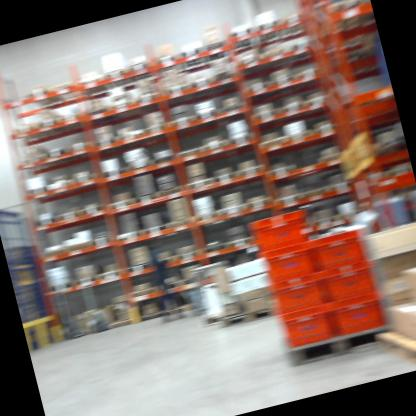pallet: (308, 323, 391, 376), (220, 303, 265, 335)
small_load_carrier: (305, 209, 374, 271), (329, 288, 396, 338), (254, 205, 315, 259), (260, 236, 323, 287), (317, 256, 385, 302), (272, 305, 337, 352), (264, 273, 329, 319)
